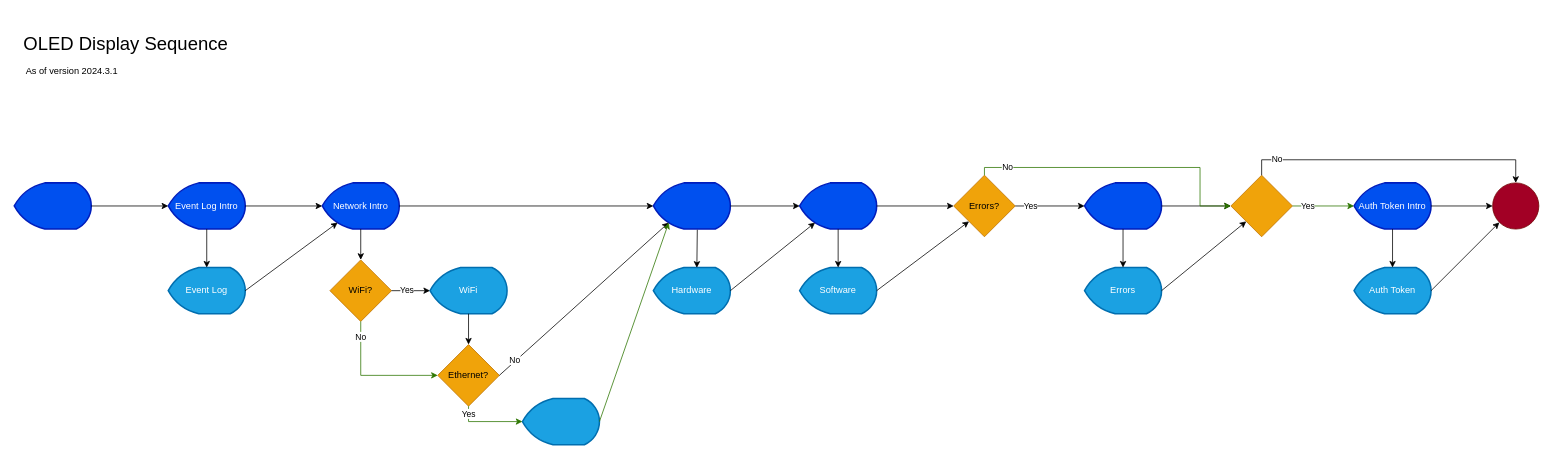
This 1560x458 diagram has some shape labels left out. Here are the shapes that lost their labels. From the top down, the centre of each, then its label:
At pixel 52 205: "Logo".
At pixel 691 205: "Hardware Intro".
At pixel 837 205: "Software Intro".
At pixel 1122 205: "Errors Intro".
At pixel 1261 205: "Auth Token?".
At pixel 560 421: "Ethernet".
